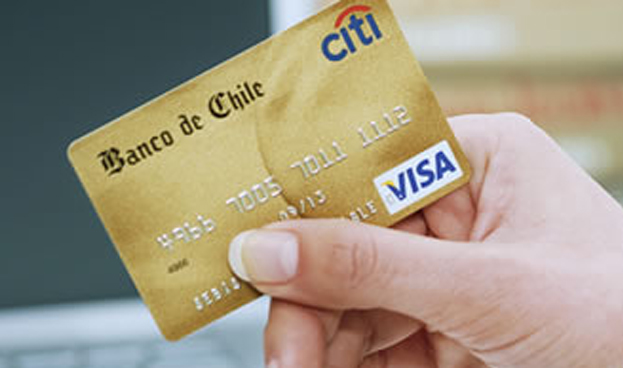tarjeta: (67, 1, 475, 340)
